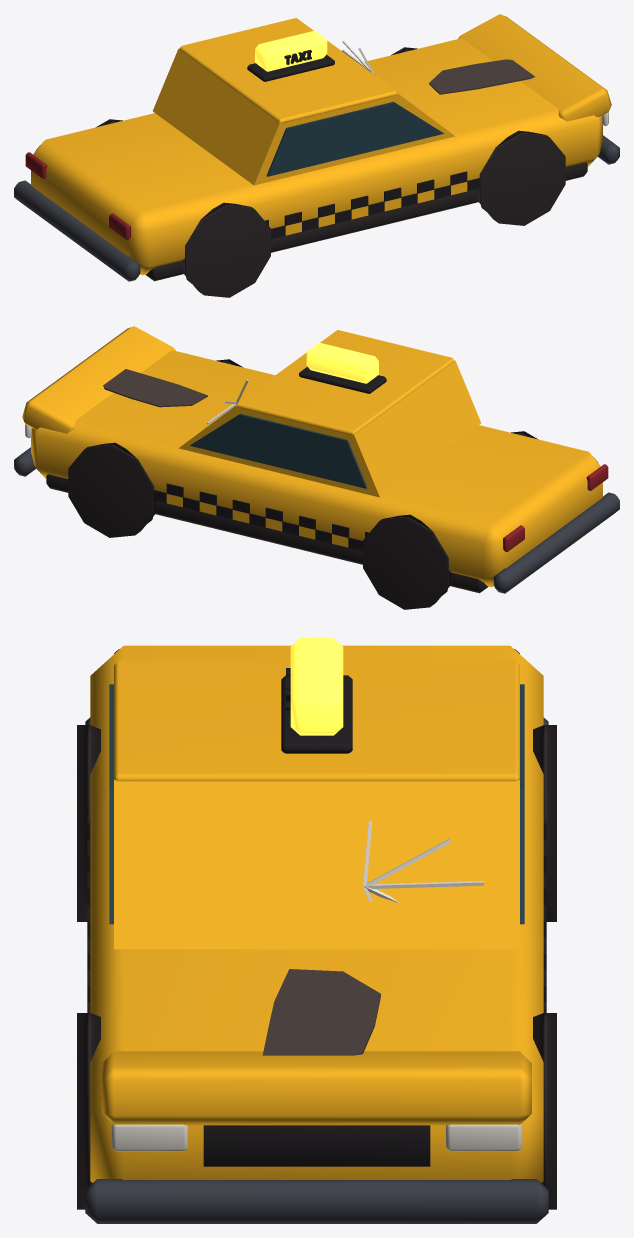
The model's file is city_taxi_wreck.glb.
The picture shows the model from 3 angles, top to bottom: view 1: azimuth 30°, elevation 25°; view 2: azimuth 150°, elevation 25°; view 3: azimuth 270°, elevation 25°; orthographic projection. The views are drawn at different scales.
Parts seen in each view (by area): view 1: TaxiWreck; view 2: TaxiWreck; view 3: TaxiWreck.
Part boxes in pixels (x1=…): TaxiWreck: x1=14, y1=14, x2=619, y2=297; TaxiWreck: x1=14, y1=326, x2=619, y2=609; TaxiWreck: x1=77, y1=638, x2=556, y2=1223.
Size of the model in its own units: 4.8 by 1.71 by 2.01.
